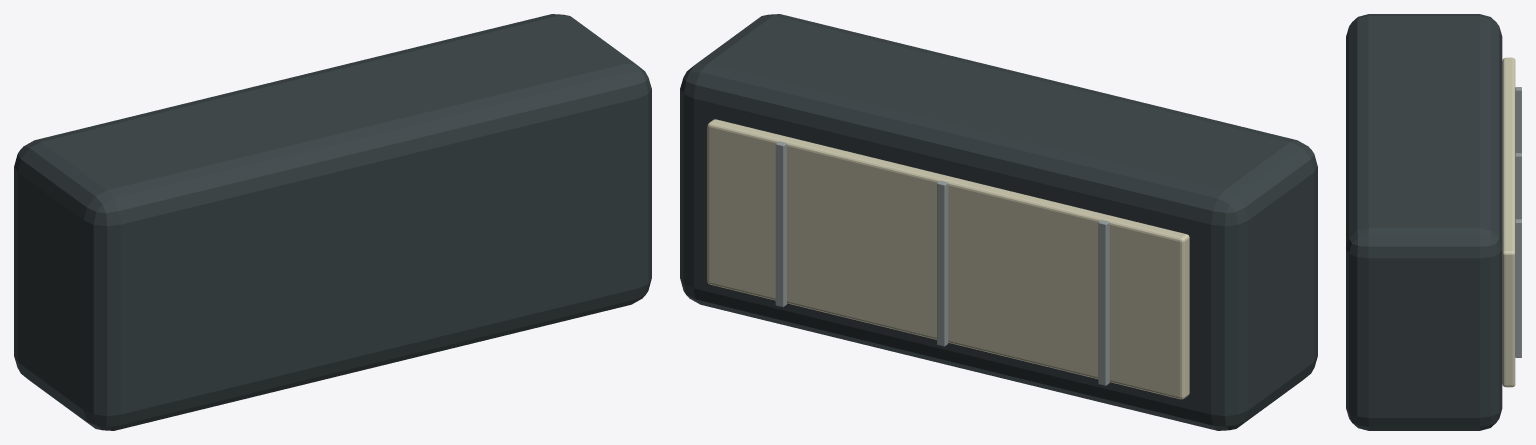
Rendered from floodlight.glb.
3 renders of one model, left to right at view 1: azimuth 30°, elevation 25°; view 2: azimuth 150°, elevation 25°; view 3: azimuth 270°, elevation 25°, orthographic. The views are drawn at different scales.
Visible parts, largest first — view 1: floodlight; view 2: floodlight; view 3: floodlight.
Part boxes in pixels (x1,y1,x2,y2): floodlight: [14, 14, 651, 430]; floodlight: [680, 14, 1317, 430]; floodlight: [1346, 14, 1521, 430].
Size of the model in its own units: 0.84 by 0.34 by 0.27.
